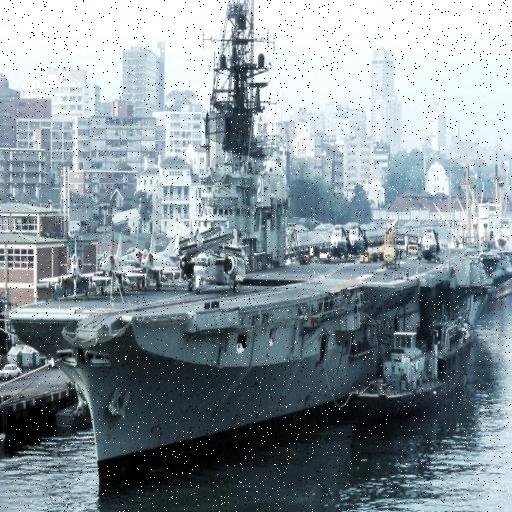Portanaves: (7, 36, 504, 496)
